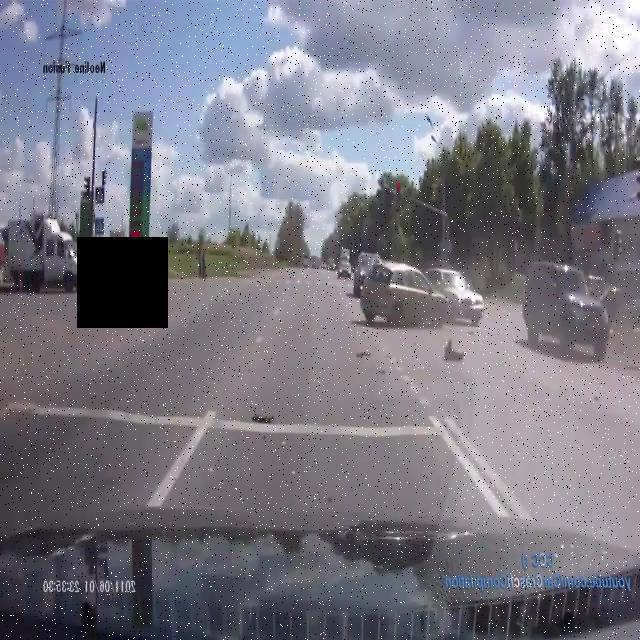accident: (359, 261, 486, 332)
